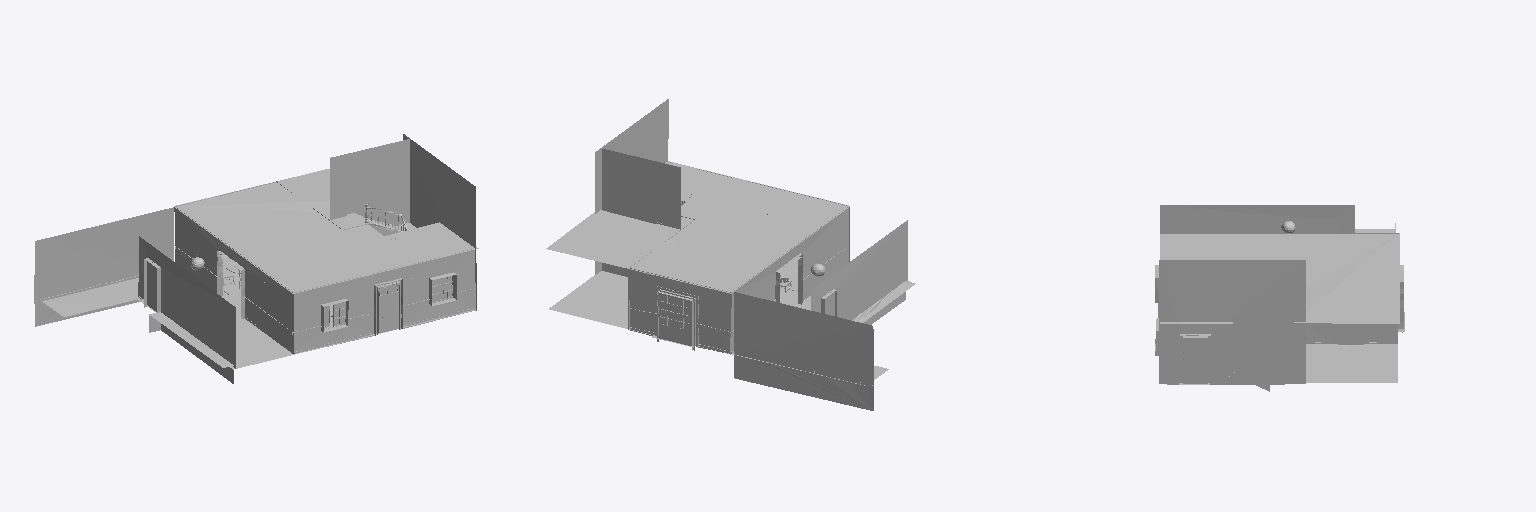
The model's file is livingroom.obj.
3 renders of one model, left to right at view 1: azimuth 30°, elevation 25°; view 2: azimuth 150°, elevation 25°; view 3: azimuth 270°, elevation 25°, orthographic.
Parts seen in each view (by area): view 1: LIVING_ROOM_MeshBaker-mesh0_0; view 2: LIVING_ROOM_MeshBaker-mesh0_0; view 3: LIVING_ROOM_MeshBaker-mesh0_0.
Part boxes in pixels (bbox=[...]): LIVING_ROOM_MeshBaker-mesh0_0: bbox=[34, 134, 478, 383]; LIVING_ROOM_MeshBaker-mesh0_0: bbox=[546, 99, 915, 410]; LIVING_ROOM_MeshBaker-mesh0_0: bbox=[1155, 205, 1404, 391].
Size of the model in its own units: 14.79 by 6.4 by 9.74.